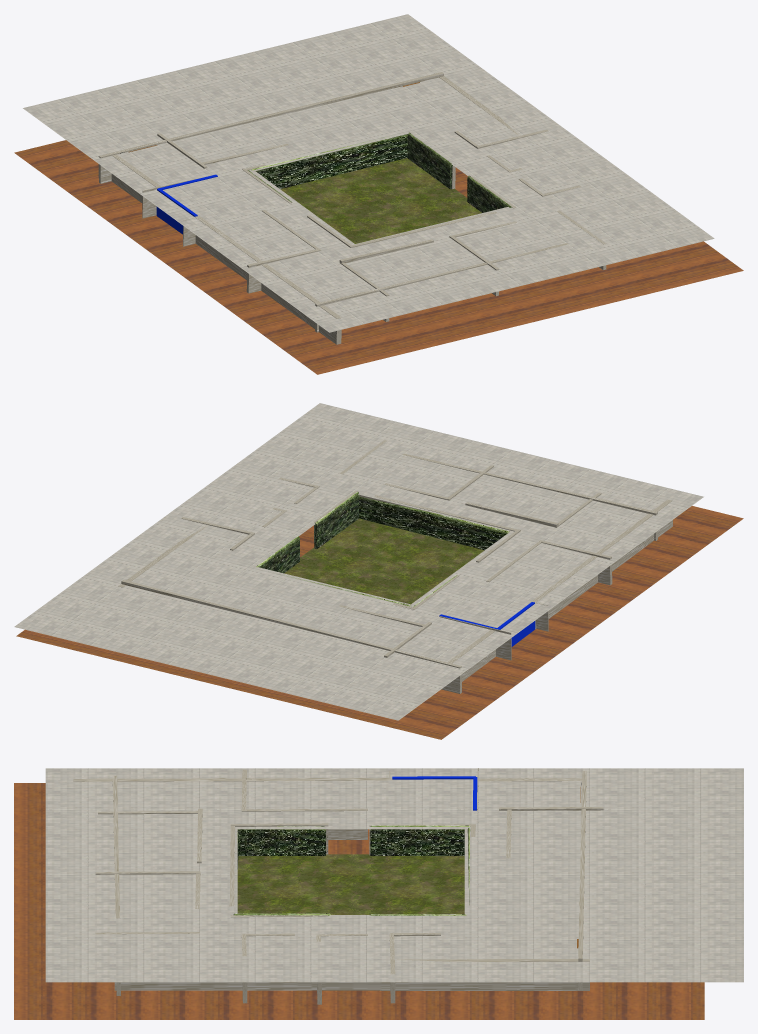
File: mmap.glb
3 renders of one model, top to bottom at view 1: azimuth 30°, elevation 25°; view 2: azimuth 150°, elevation 25°; view 3: azimuth 270°, elevation 25°, orthographic. The views are drawn at different scales.
Parts seen in each view (by area): view 1: roof, floor, grass, HEDGE.006, Cube.025, Cube.004, HEDGE.003, Cube.001, HEDGE.001; view 2: roof, floor, grass, HEDGE.005, Cube.004, Cube.025, HEDGE.001, Cube.001, HEDGE.003; view 3: roof, floor, grass, Cube.003, HEDGE.002, HEDGE.007, Cube.025, Cube.004, Cube.028, Cube.001, Cube.021.
Part boxes in pixels (x1=…): roof: x1=23, y1=14, x2=714, y2=332; floor: x1=14, y1=140, x2=743, y2=374; grass: x1=280, y1=158, x2=481, y2=243; HEDGE.006: x1=251, y1=134, x2=407, y2=188; Cube.025: x1=195, y1=215, x2=341, y2=344; Cube.004: x1=98, y1=72, x2=443, y2=183; HEDGE.003: x1=407, y1=132, x2=452, y2=189; Cube.001: x1=315, y1=243, x2=568, y2=332; HEDGE.001: x1=467, y1=175, x2=511, y2=212; roof: x1=14, y1=403, x2=703, y2=720; floor: x1=16, y1=506, x2=743, y2=739; grass: x1=284, y1=518, x2=484, y2=604; HEDGE.005: x1=359, y1=496, x2=509, y2=550; Cube.004: x1=121, y1=580, x2=461, y2=693; Cube.025: x1=530, y1=499, x2=672, y2=628; HEDGE.001: x1=314, y1=492, x2=359, y2=548; Cube.001: x1=402, y1=453, x2=657, y2=540; HEDGE.003: x1=256, y1=536, x2=299, y2=573; roof: x1=45, y1=768, x2=743, y2=982; floor: x1=14, y1=783, x2=704, y2=1019; grass: x1=237, y1=854, x2=464, y2=914; Cube.003: x1=114, y1=959, x2=589, y2=990; HEDGE.002: x1=370, y1=825, x2=470, y2=855; HEDGE.007: x1=237, y1=826, x2=327, y2=855; Cube.025: x1=73, y1=778, x2=392, y2=781; Cube.004: x1=578, y1=771, x2=586, y2=990; Cube.028: x1=242, y1=808, x2=367, y2=839; Cube.001: x1=112, y1=775, x2=120, y2=995; Cube.021: x1=230, y1=823, x2=328, y2=854.
Size of the model in its own units: 97.19 by 8.16 by 127.
Materials: 141 (133 with a texture image).
